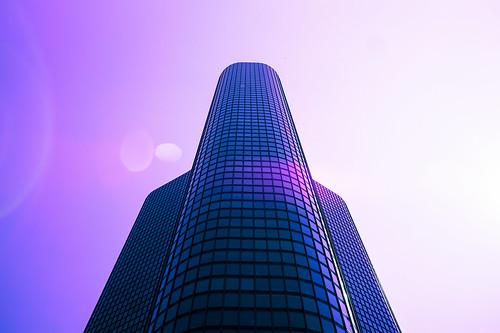building: (80, 55, 406, 332)
